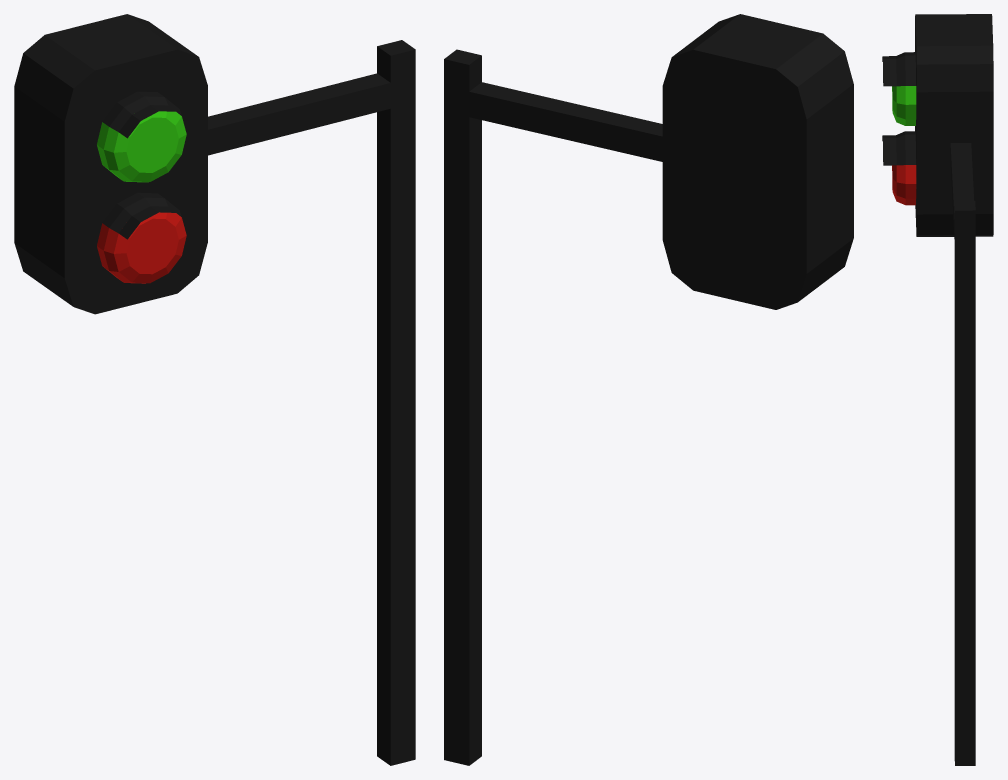
File: traffic_light.obj
The picture shows the model from 3 angles, left to right: view 1: azimuth 30°, elevation 25°; view 2: azimuth 150°, elevation 25°; view 3: azimuth 270°, elevation 25°; orthographic projection. The views are drawn at different scales.
Visible parts, largest first — view 1: trafficlight.004; view 2: trafficlight.004; view 3: trafficlight.004.
Boxes of the visible parts, bbox=[...] form: trafficlight.004: bbox=[14, 14, 415, 765]; trafficlight.004: bbox=[444, 14, 853, 765]; trafficlight.004: bbox=[882, 14, 993, 765].
Bounding box in the file's own units: 3.68 × 7.37 × 1.2.
